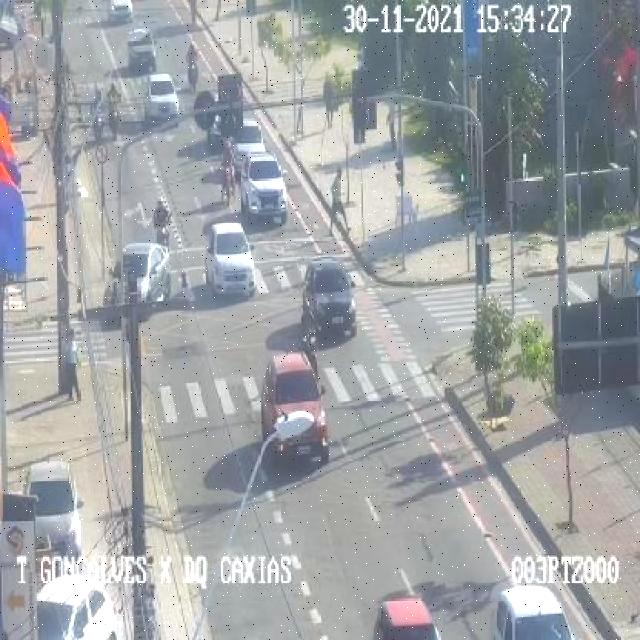Car: (260, 351, 328, 462), (106, 246, 171, 322), (302, 260, 359, 340), (207, 218, 257, 300), (240, 152, 292, 224), (142, 72, 180, 118), (128, 26, 158, 69)
Cycle: (154, 193, 172, 253), (184, 40, 202, 92)
